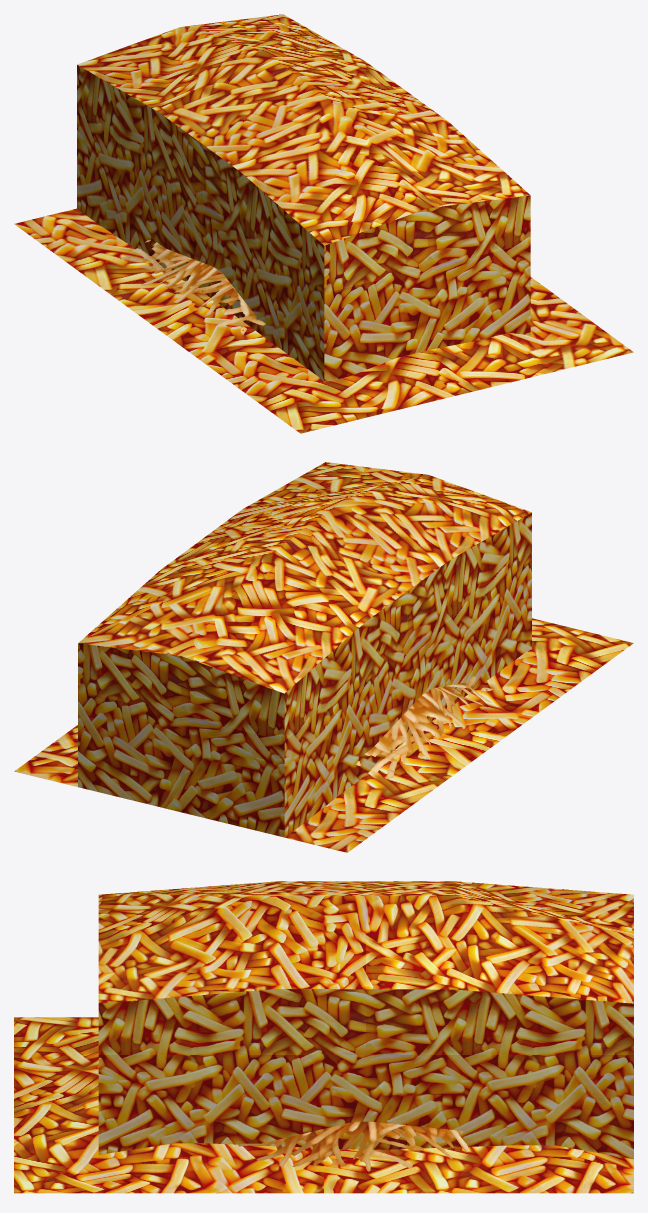
The model's file is fries.fbx.
3 renders of one model, top to bottom at view 1: azimuth 30°, elevation 25°; view 2: azimuth 150°, elevation 25°; view 3: azimuth 270°, elevation 25°, orthographic. The views are drawn at different scales.
Parts seen in each view (by area): view 1: fries_frietool, fries03, fries02; view 2: fries_frietool, fries03, fries02; view 3: fries_frietool, fries03, fries02.
Boxes of the visible parts, box(x1,y1,x2,y2) form: fries_frietool: box(77, 14, 530, 382); fries03: box(14, 208, 633, 433); fries02: box(120, 240, 265, 334); fries_frietool: box(78, 462, 531, 837); fries03: box(14, 618, 633, 852); fries02: box(344, 676, 493, 780); fries_frietool: box(98, 881, 633, 1159); fries03: box(14, 1017, 633, 1193); fries02: box(238, 1121, 468, 1171).
Size of the model in its own units: 32.2 by 16.85 by 45.36.
